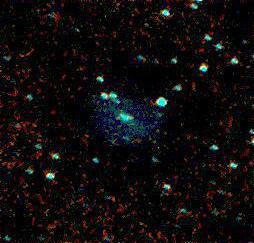star: (98, 127, 128, 157)
